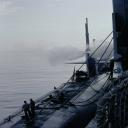submarine: (1, 19, 122, 128)
